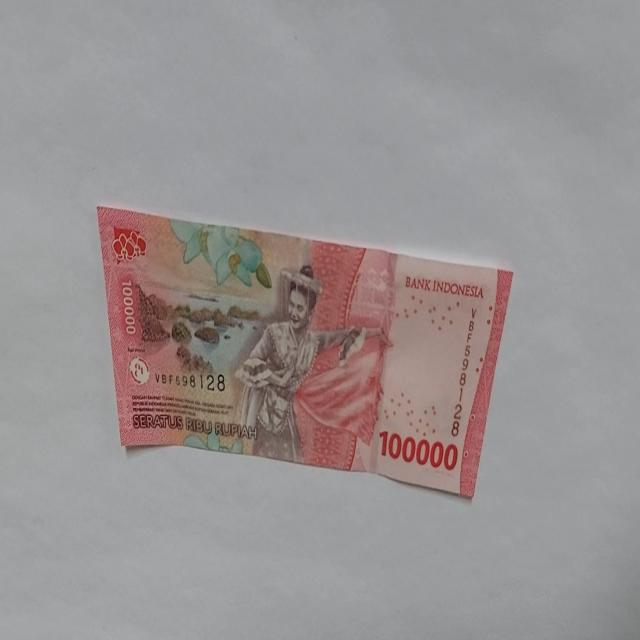seratus ribu rupiah: (96, 204, 514, 501), (231, 263, 385, 468)
